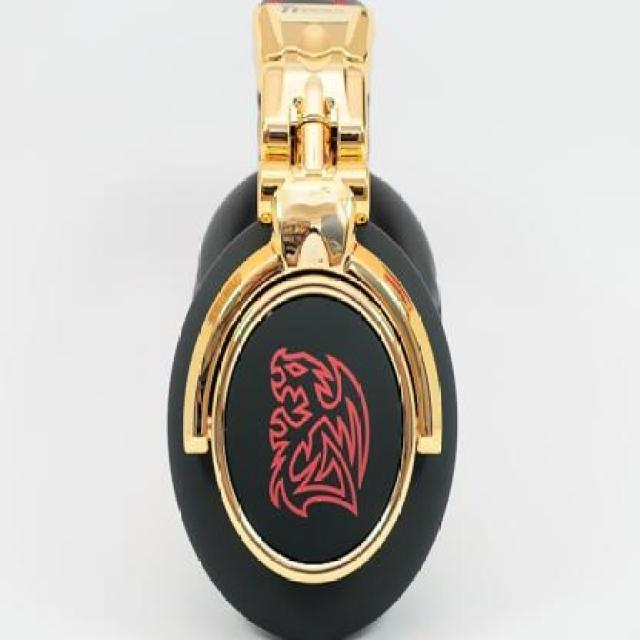earphone: (198, 0, 460, 621)
